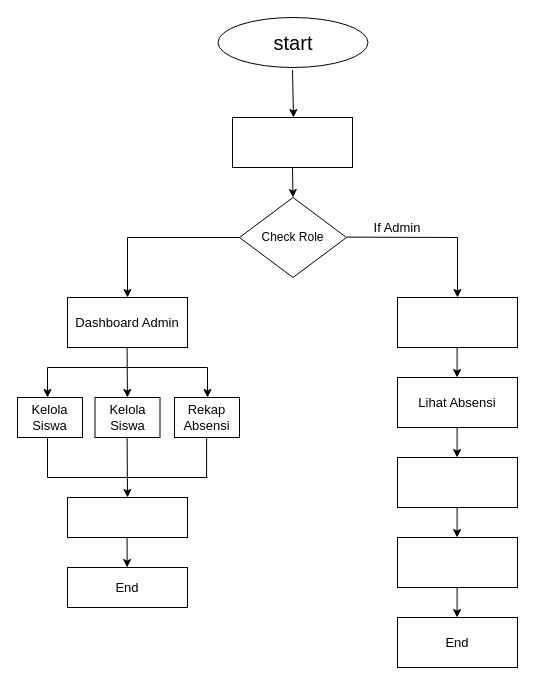
The diagram is 535 pixels wide and 685 high, and some of its shapes have lost their labels. The shapes that lost their labels are listed below. From the top down, each one's box as (x1, y1, x2, y2) in pixels, then its label:
(232, 116, 352, 168): Login
(396, 296, 518, 348): Dashboard Siswa
(396, 456, 518, 508): Ajukan izin sakit
(66, 496, 188, 538): Logout
(396, 536, 518, 588): Upload Surat/Penjelasan
